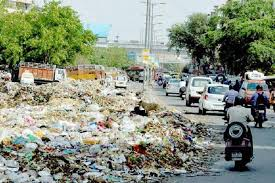garbage: (2, 82, 133, 183), (82, 116, 205, 183)
